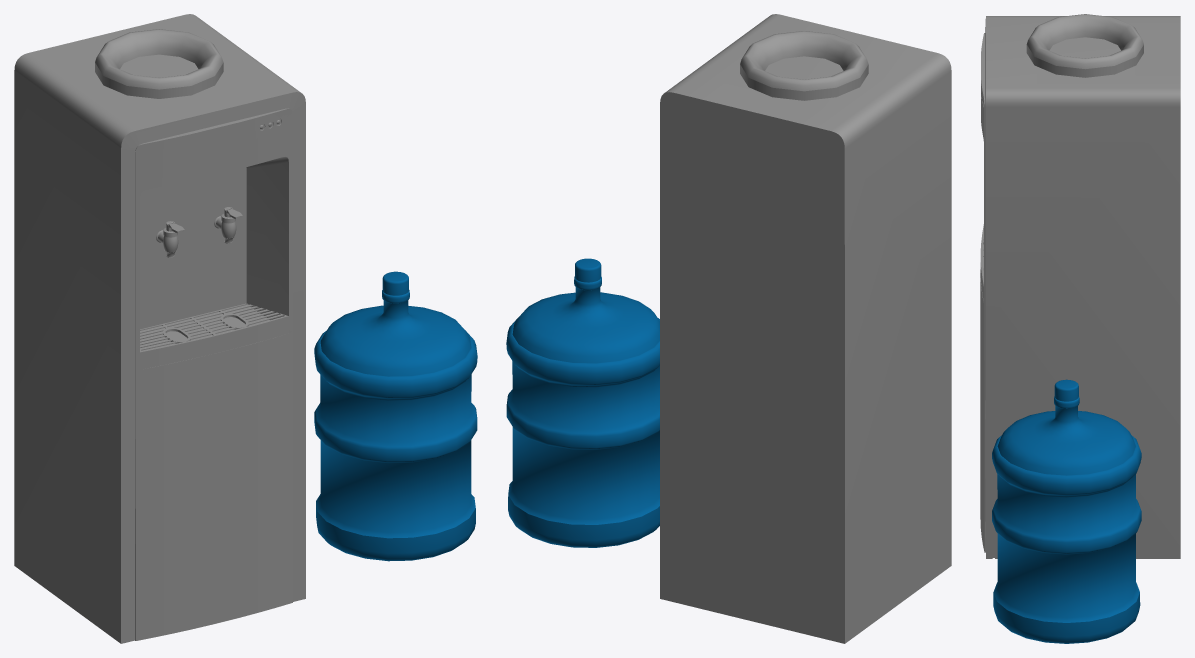
Rendered from WaterDispenser.FBX.
The picture shows the model from 3 angles, left to right: view 1: azimuth 30°, elevation 25°; view 2: azimuth 150°, elevation 25°; view 3: azimuth 270°, elevation 25°; orthographic projection. The views are drawn at different scales.
Visible parts, largest first — view 1: Box010, WaterJug007; view 2: Box010, WaterJug007; view 3: Box010, WaterJug007.
Boxes of the visible parts, x1,y1,x2,y2 form: Box010: (14, 14, 305, 643); WaterJug007: (314, 271, 477, 561); Box010: (660, 14, 951, 643); WaterJug007: (506, 258, 659, 547); Box010: (980, 14, 1180, 558); WaterJug007: (992, 379, 1141, 643).
Bounding box in the file's own units: 80.22 × 39.05 × 104.
